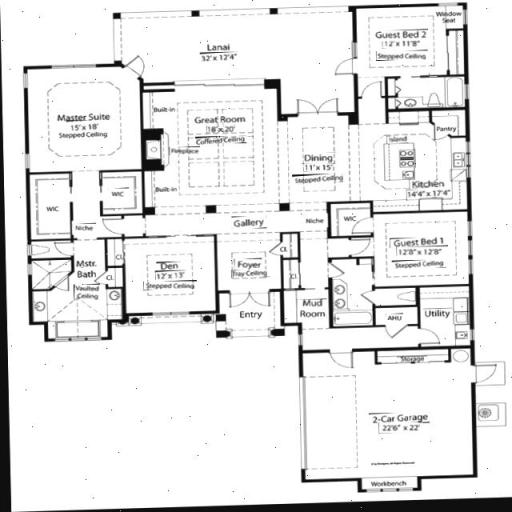Room: (128, 246, 206, 308)
bathroom: (30, 239, 123, 327)
bedroom: (358, 11, 462, 77), (377, 222, 464, 284)
garage: (310, 352, 470, 473)
hall: (149, 87, 280, 216), (30, 74, 142, 174)
kitchen: (286, 121, 462, 216)
